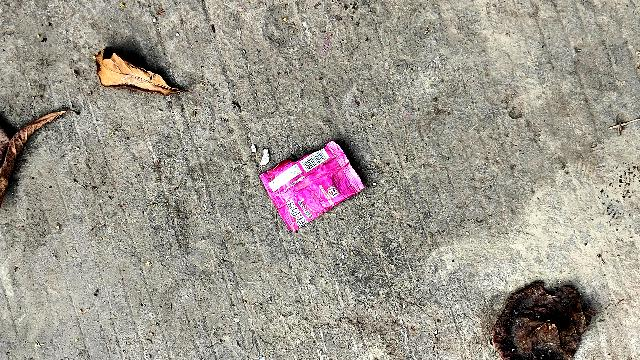packet: (254, 150, 373, 225)
